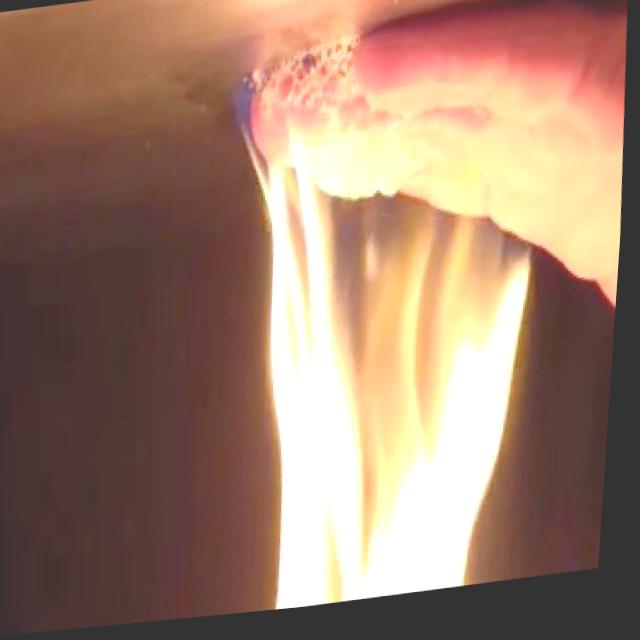Fire: (226, 55, 568, 619)
